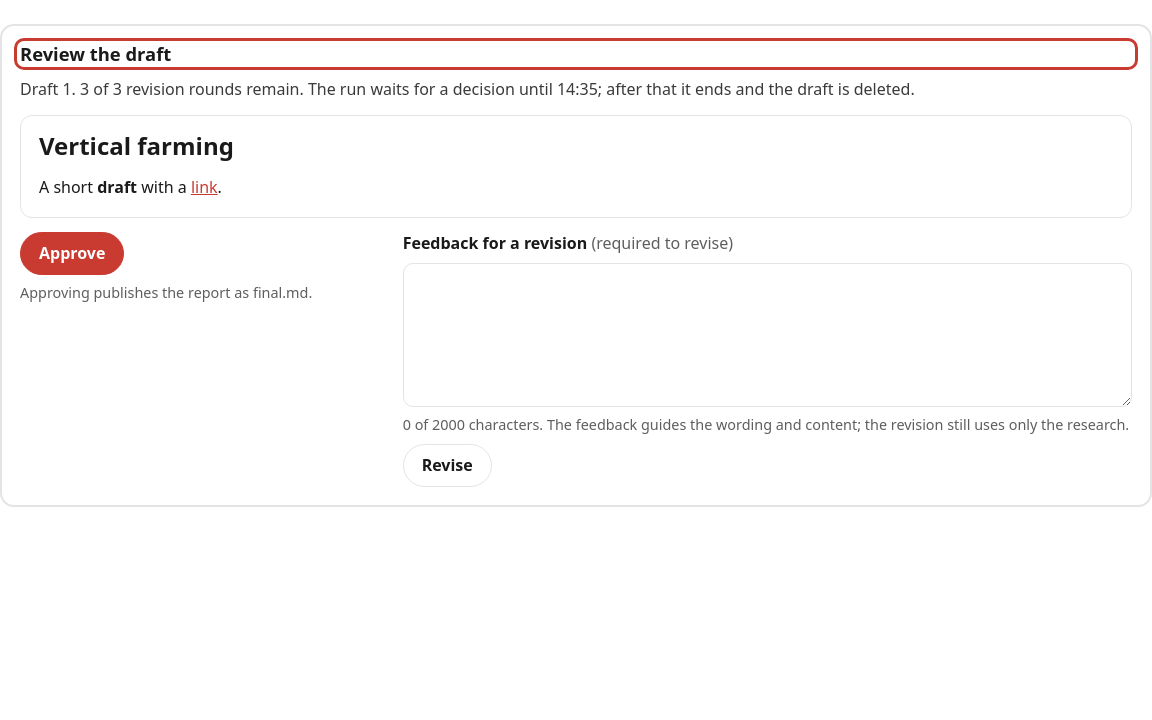
Test: ReviewPanel › clears the message as soon as the feedback is edited
The width and height of the screenshot is (1152, 720).
Click the button "Revise": (447, 466) [403,444,492,487]
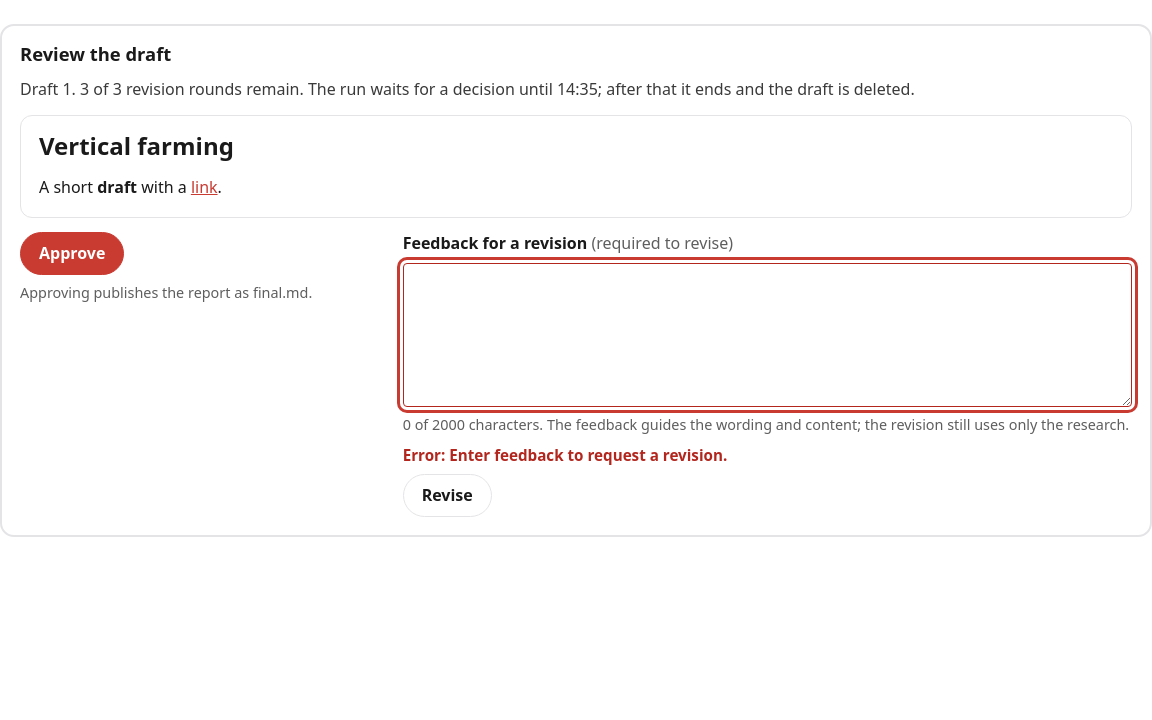
In the text box labelled "Feedback for a revision (required to revise)": (767, 335) [403,263,1132,407], type "a"
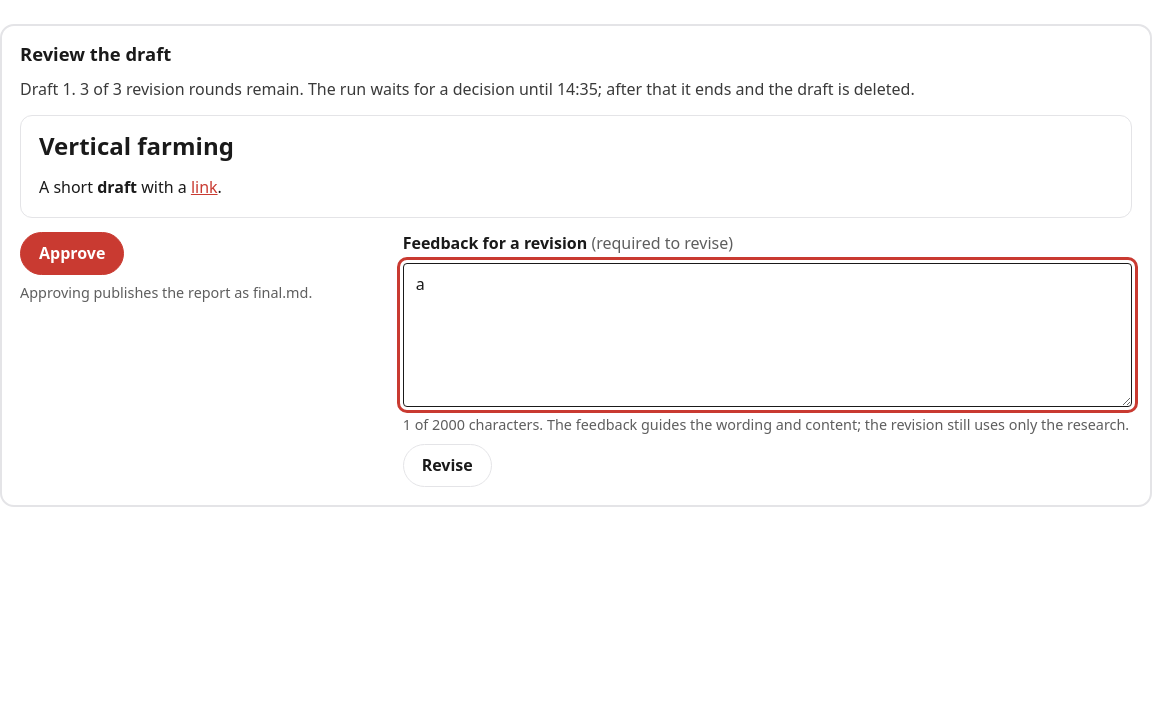
Result: the message "Enter feedback to request a revision." is gone
